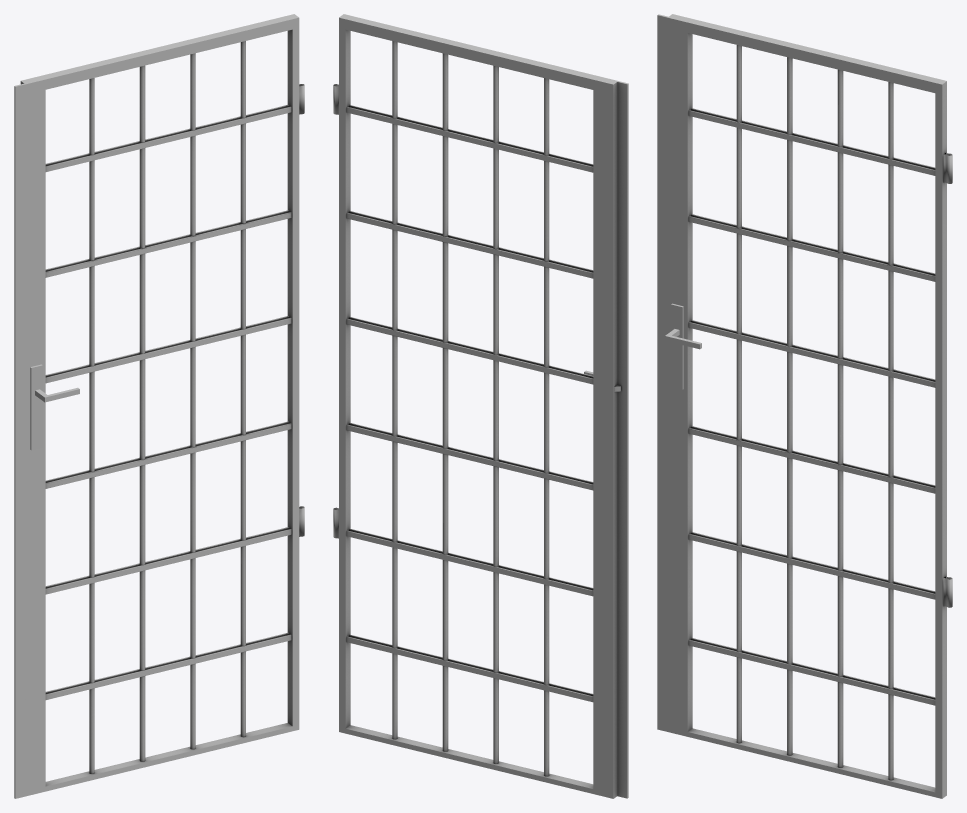
The model's file is cage_door_low_poly.fbx.
The picture shows the model from 3 angles, left to right: view 1: azimuth 30°, elevation 25°; view 2: azimuth 150°, elevation 25°; view 3: azimuth 330°, elevation 25°; orthographic projection.
Parts seen in each view (by area): view 1: CageDoor, Handle; view 2: CageDoor; view 3: CageDoor, Handle.
Part boxes in pixels (x1=…): CageDoor: x1=14, y1=14, x2=304, y2=798; Handle: x1=30, y1=364, x2=79, y2=450; CageDoor: x1=333, y1=14, x2=628, y2=798; CageDoor: x1=657, y1=14, x2=952, y2=798; Handle: x1=665, y1=303, x2=701, y2=389.
Size of the model in its own units: 86.59 by 202 by 8.18.
